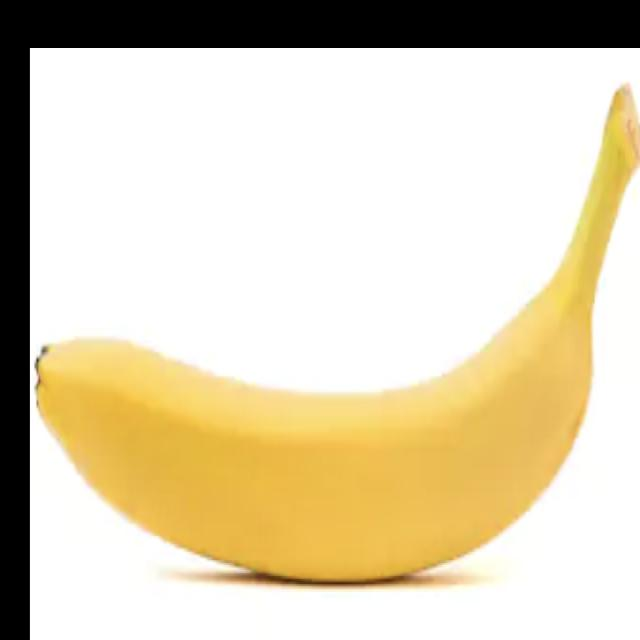Ripe: (30, 69, 640, 595)
